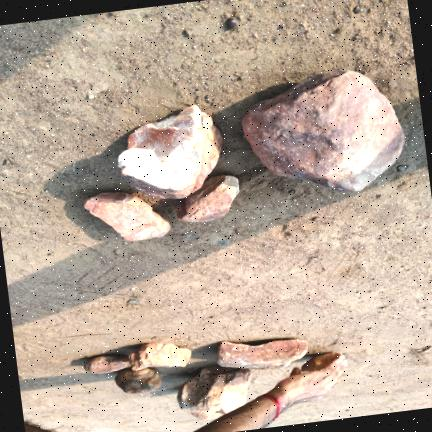Rocks: (243, 70, 404, 190), (118, 105, 222, 198), (85, 192, 170, 240), (178, 365, 251, 418), (177, 174, 238, 221), (218, 338, 307, 368), (129, 342, 191, 369), (115, 368, 161, 392), (84, 354, 129, 373), (302, 352, 341, 371), (226, 16, 240, 28), (353, 5, 364, 12), (397, 164, 408, 171)
